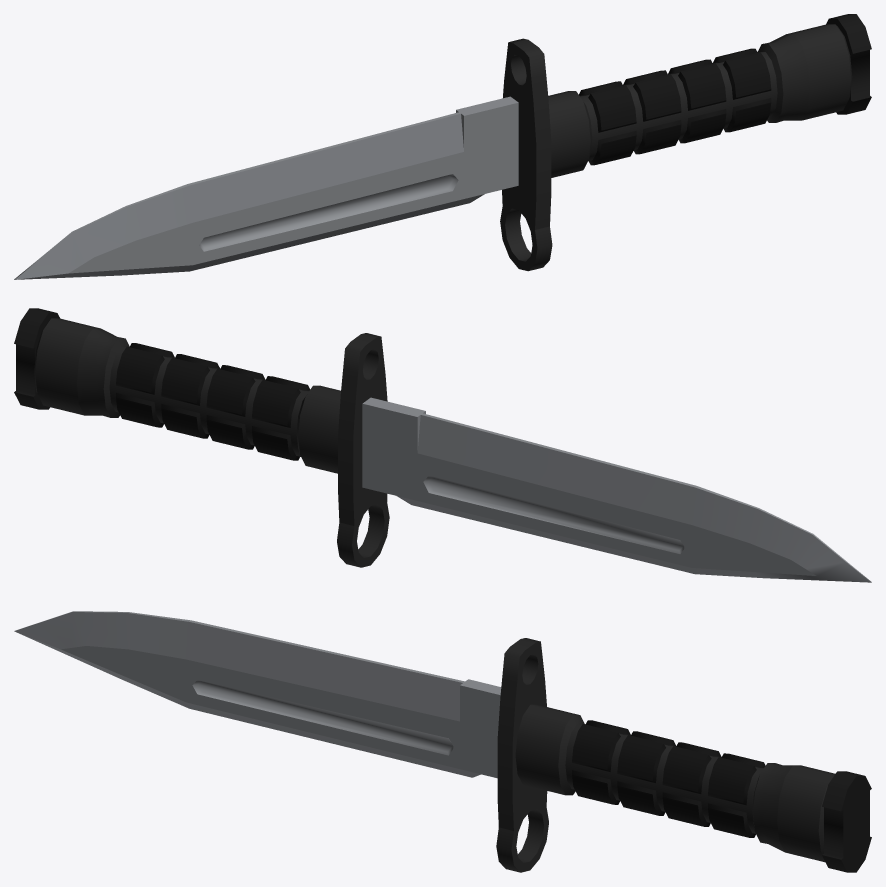
3 views of the same model, one above another, from view 1: azimuth 30°, elevation 25°; view 2: azimuth 150°, elevation 25°; view 3: azimuth 330°, elevation 25° (orthographic).
Parts seen in each view (by area): view 1: knife; view 2: knife; view 3: knife.
Boxes of the visible parts, <box> form: knife: <box>14,14,871,279</box>; knife: <box>14,308,871,582</box>; knife: <box>14,611,871,872</box>.
Bounding box in the file's own units: 6.96 × 1.76 × 0.5371.
1 material, 1 textured.
